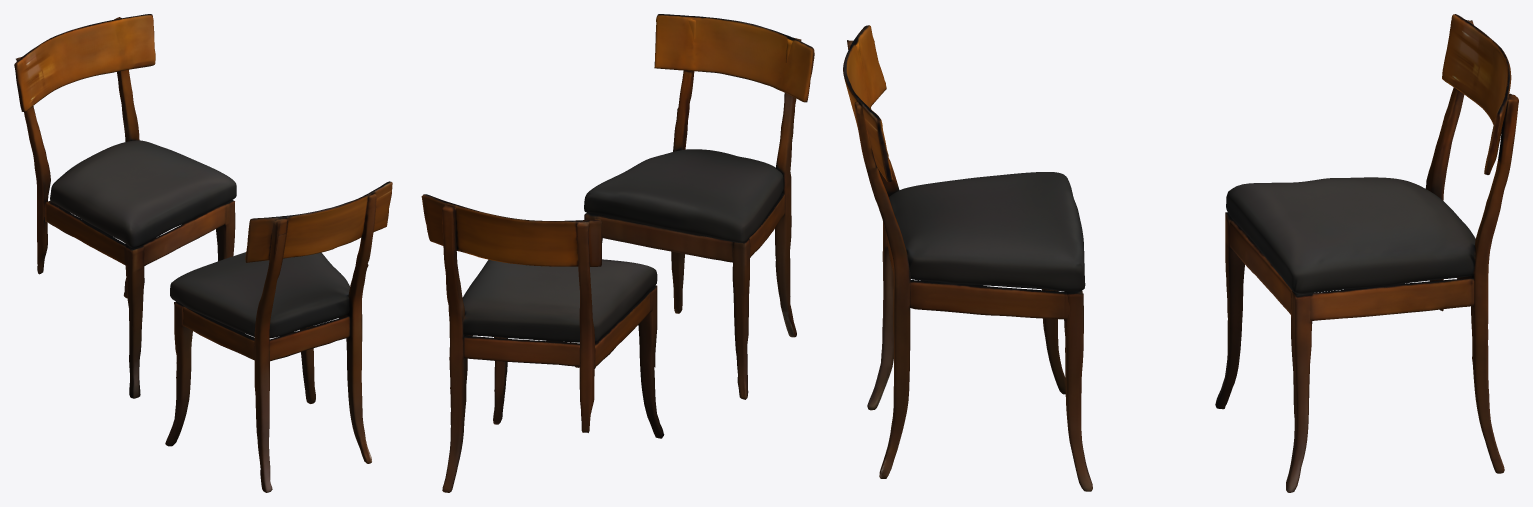
3 views of the same model, side by side, from view 1: azimuth 30°, elevation 25°; view 2: azimuth 150°, elevation 25°; view 3: azimuth 270°, elevation 25° (orthographic). The views are drawn at different scales.
Parts seen in each view (by area): view 1: root.0, root.1, root.4, root.5, root.7, root.2, root.3, root.8, root.11, root.10, root.9, root.6 (+2 smaller); view 2: root.1, root.0, root.5, root.4, root.2, root.6, root.3, root.7, root.9, root.10, root.11, root.8 (+1 smaller); view 3: root.0, root.1, root.2, root.6, root.8, root.4, root.3, root.5, root.12, root.13, root.11, root.7 (+2 smaller).
Part boxes in pixels (bbox=[...]): root.0: bbox=[50, 140, 236, 247]; root.1: bbox=[170, 252, 349, 338]; root.4: bbox=[14, 14, 155, 111]; root.5: bbox=[245, 181, 392, 262]; root.7: bbox=[254, 216, 288, 492]; root.2: bbox=[44, 200, 227, 266]; root.3: bbox=[183, 306, 350, 361]; root.8: bbox=[346, 193, 376, 463]; root.11: bbox=[126, 245, 144, 398]; root.10: bbox=[165, 301, 192, 446]; root.9: bbox=[16, 57, 50, 274]; root.6: bbox=[114, 17, 139, 298]; root.1: bbox=[584, 149, 783, 242]; root.0: bbox=[462, 259, 657, 342]; root.5: bbox=[654, 14, 814, 102]; root.4: bbox=[421, 194, 602, 266]; root.2: bbox=[464, 291, 653, 368]; root.6: bbox=[442, 205, 467, 492]; root.3: bbox=[596, 193, 784, 262]; root.7: bbox=[775, 37, 801, 337]; root.9: bbox=[576, 222, 594, 432]; root.10: bbox=[732, 238, 750, 399]; root.11: bbox=[638, 285, 664, 438]; root.8: bbox=[671, 19, 695, 313]; root.0: bbox=[1226, 177, 1475, 294]; root.1: bbox=[889, 172, 1085, 291]; root.2: bbox=[1230, 220, 1474, 320]; root.6: bbox=[1471, 93, 1518, 473]; root.8: bbox=[854, 102, 910, 478]; root.4: bbox=[1442, 14, 1511, 174]; root.3: bbox=[887, 239, 1069, 319]; root.5: bbox=[843, 25, 893, 181]; root.12: bbox=[1286, 291, 1313, 492]; root.13: bbox=[1064, 290, 1092, 491]; root.11: bbox=[1215, 212, 1244, 409]; root.7: bbox=[847, 40, 899, 410].
Bounding box in the file's own units: 0.4825 × 0.78 × 1.28.
14 materials, 14 textured.
